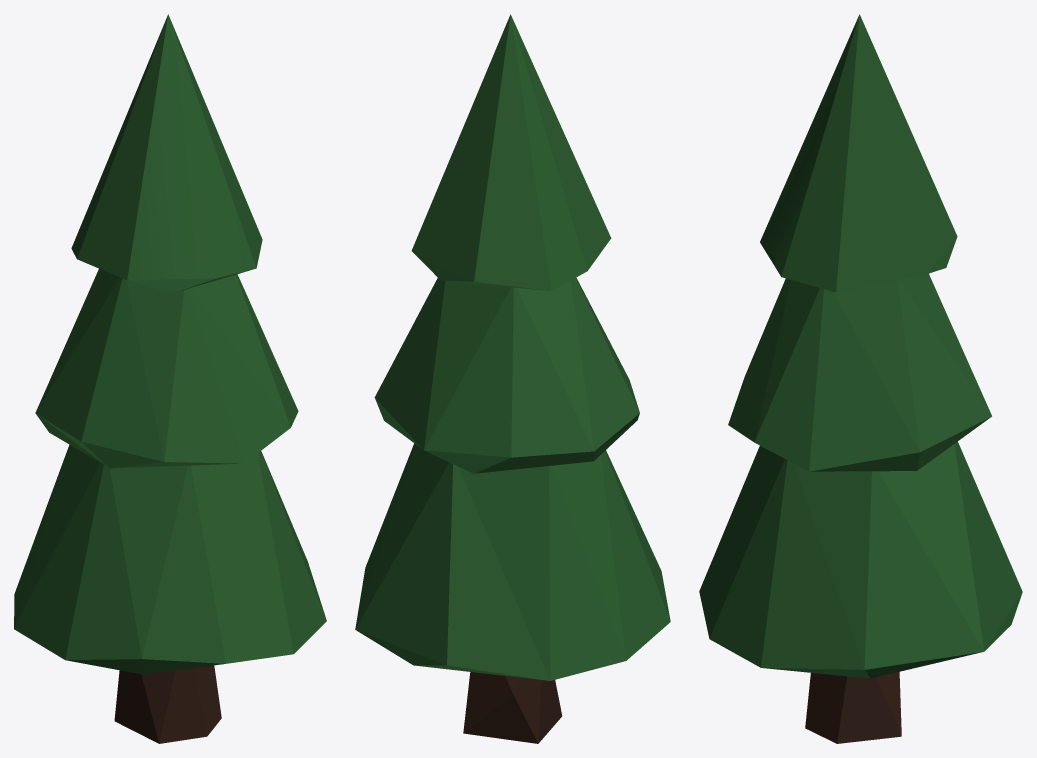
3 views of the same model, side by side, from view 1: azimuth 30°, elevation 25°; view 2: azimuth 150°, elevation 25°; view 3: azimuth 270°, elevation 25° (orthographic).
Parts seen in each view (by area): view 1: Mesh_11.003_Mesh_11.1380; view 2: Mesh_11.003_Mesh_11.1380; view 3: Mesh_11.003_Mesh_11.1380.
Boxes of the visible parts, x1,y1,x2,y2 form: Mesh_11.003_Mesh_11.1380: [14, 14, 326, 743]; Mesh_11.003_Mesh_11.1380: [355, 14, 670, 743]; Mesh_11.003_Mesh_11.1380: [699, 14, 1022, 743].
Size of the model in its own units: 1.49 by 3.64 by 1.5.
